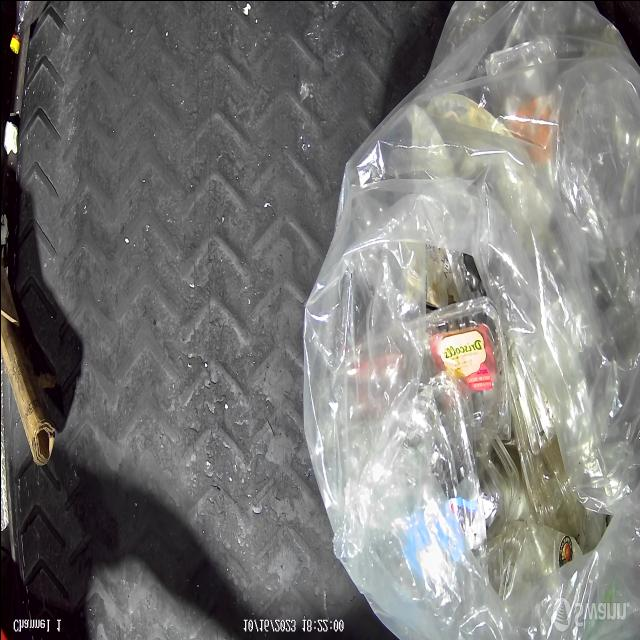plastic_bottle: (9, 0, 45, 54)
